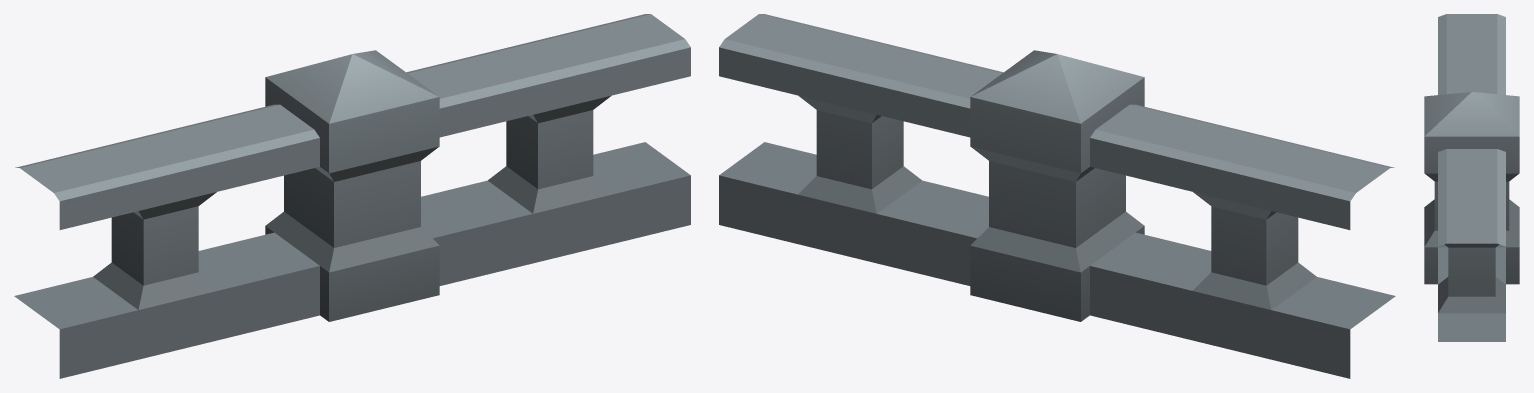
File: barrier_column.gltf
3 renders of one model, left to right at view 1: azimuth 30°, elevation 25°; view 2: azimuth 150°, elevation 25°; view 3: azimuth 270°, elevation 25°, orthographic. The views are drawn at different scales.
Parts seen in each view (by area): view 1: barrier_column; view 2: barrier_column; view 3: barrier_column.
Boxes of the visible parts, x1,y1,x2,y2 form: barrier_column: [14, 14, 690, 378]; barrier_column: [719, 14, 1395, 378]; barrier_column: [1424, 14, 1519, 341].
Bounding box in the file's own units: 4 × 1.4 × 0.7.
Materials: 1 (1 with a texture image).
